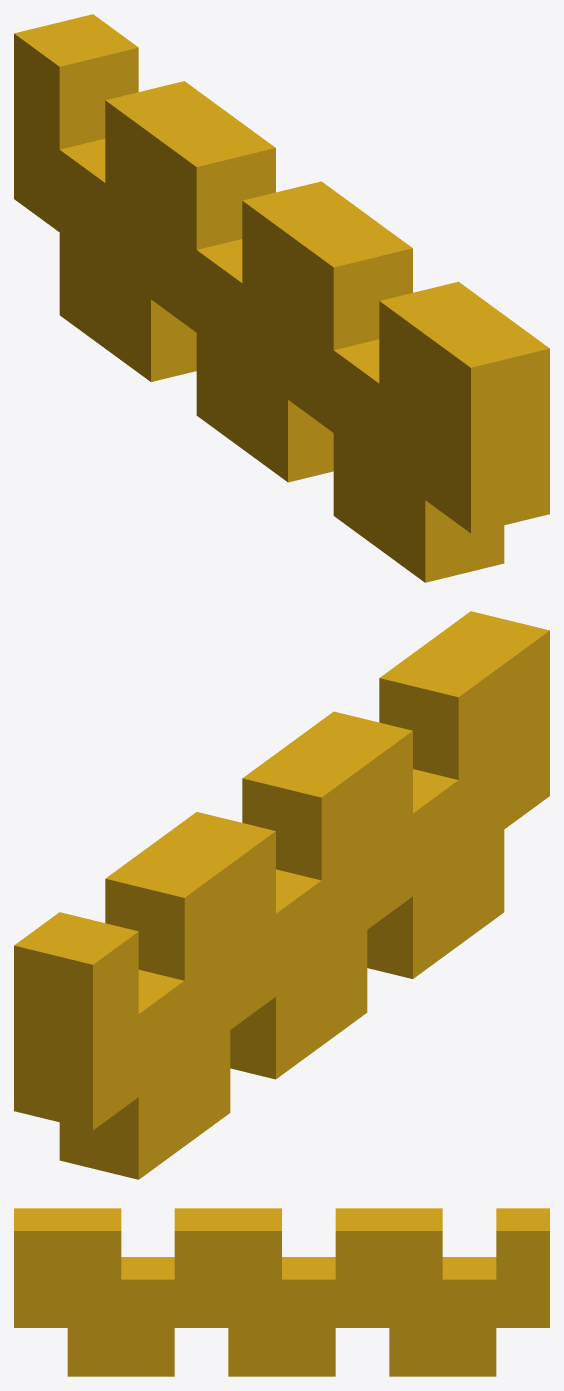
Rendered from grass_wall_deco_c.obj.
The picture shows the model from 3 angles, top to bottom: view 1: azimuth 30°, elevation 25°; view 2: azimuth 150°, elevation 25°; view 3: azimuth 270°, elevation 25°; orthographic projection. The views are drawn at different scales.
Bounding box in the file's own units: 0.1 × 0.3 × 1.
1 material, 1 textured.
